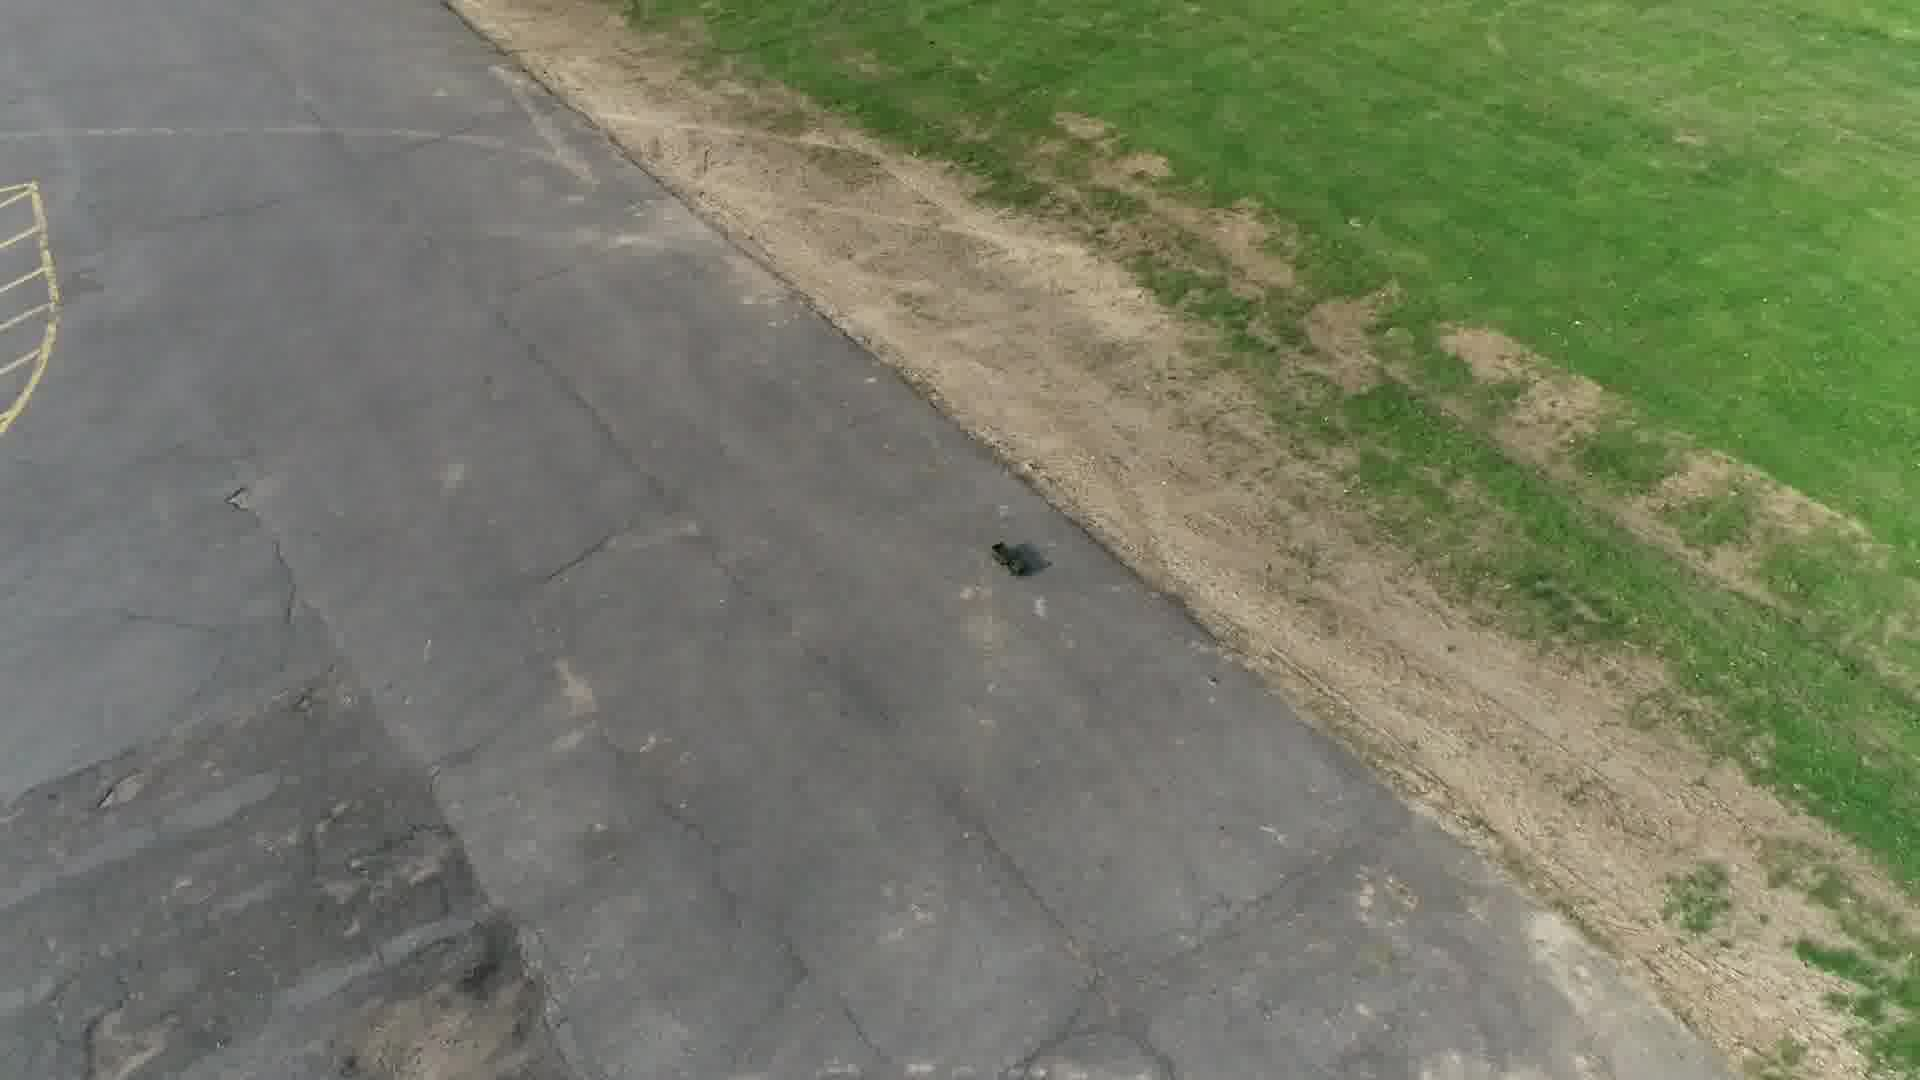transporter9: (986, 538, 1033, 580)
